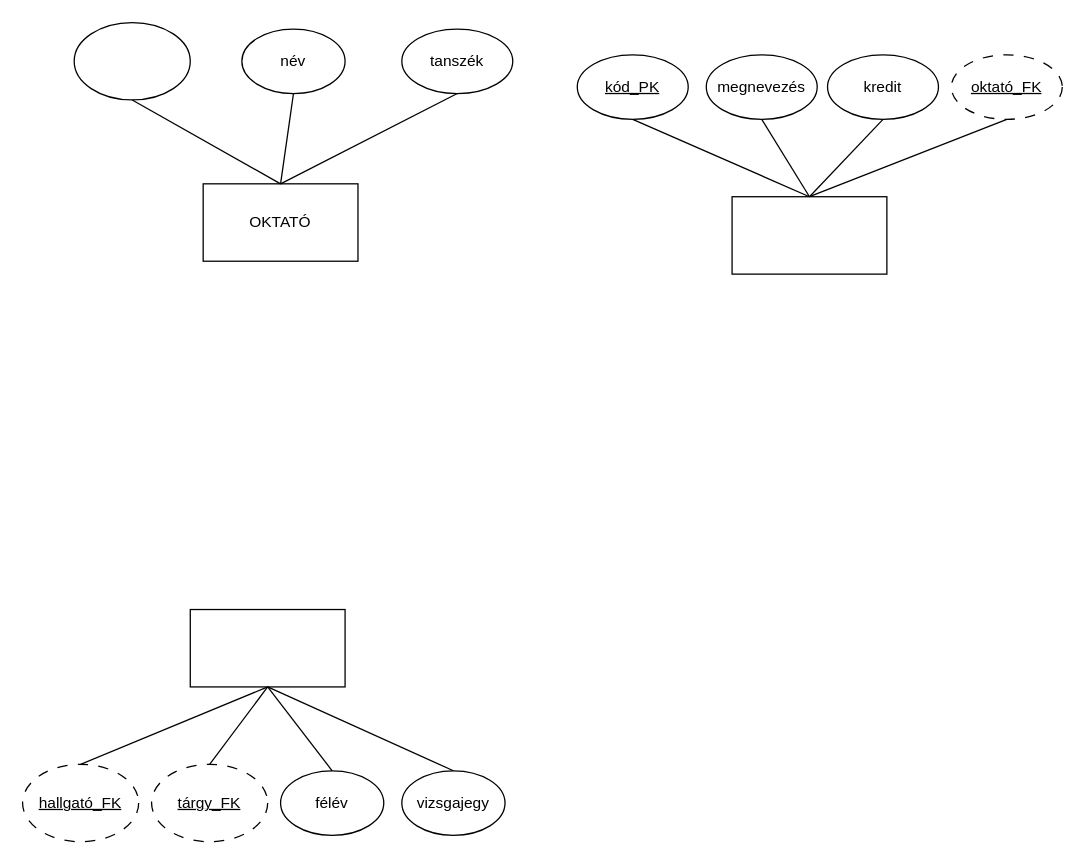
Image size: 1085x864. Some labels were removed from this diagram. Each missing label, with the centre of its shape:
"HALLGAT" goes at pixel 267 647.
"neptunkód_PK" goes at pixel 131 60.
"TÁRGY" goes at pixel 809 234.
